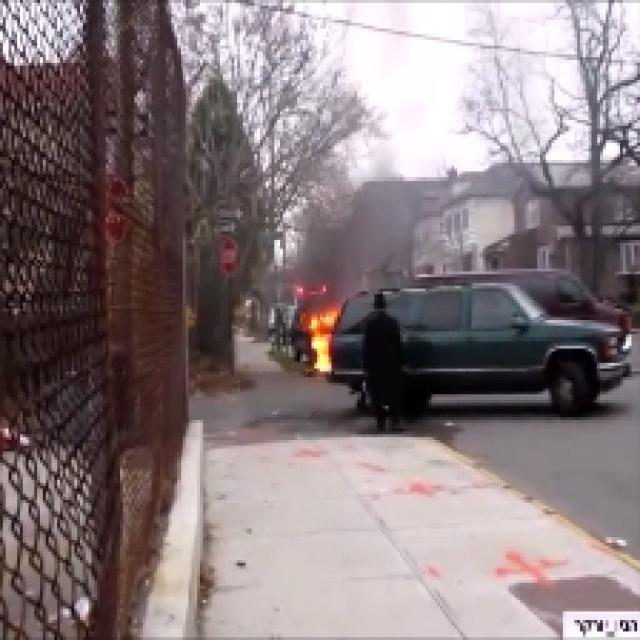fire: (306, 308, 336, 372)
smoke: (336, 196, 395, 279)
